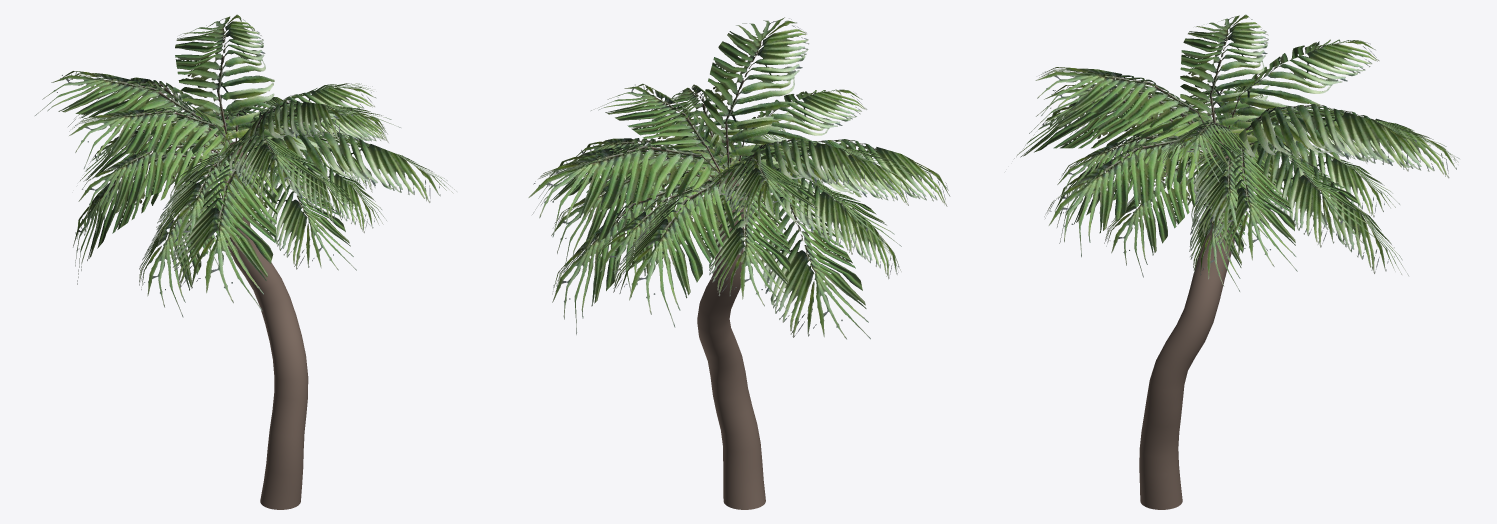
File: palm3.fbx
3 views of the same model, side by side, from view 1: azimuth 30°, elevation 25°; view 2: azimuth 150°, elevation 25°; view 3: azimuth 270°, elevation 25° (orthographic). The views are drawn at different scales.
Parts seen in each view (by area): view 1: tree.002; view 2: tree.002; view 3: tree.002.
Part boxes in pixels (box(x1,y1,x2,y2)): tree.002: box(35, 14, 456, 509); tree.002: box(528, 17, 950, 509); tree.002: box(1014, 14, 1459, 509).
Bounding box in the file's own units: 1882 × 2125 × 2160.
